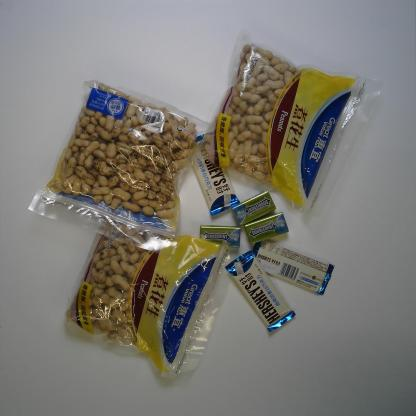Chocolate: (223, 249, 297, 333), (252, 239, 335, 296), (189, 132, 240, 217)
Dried Food: (189, 24, 387, 230), (25, 74, 216, 256), (55, 215, 238, 382)
Gum: (231, 188, 277, 227), (243, 210, 290, 244), (199, 224, 242, 248)
